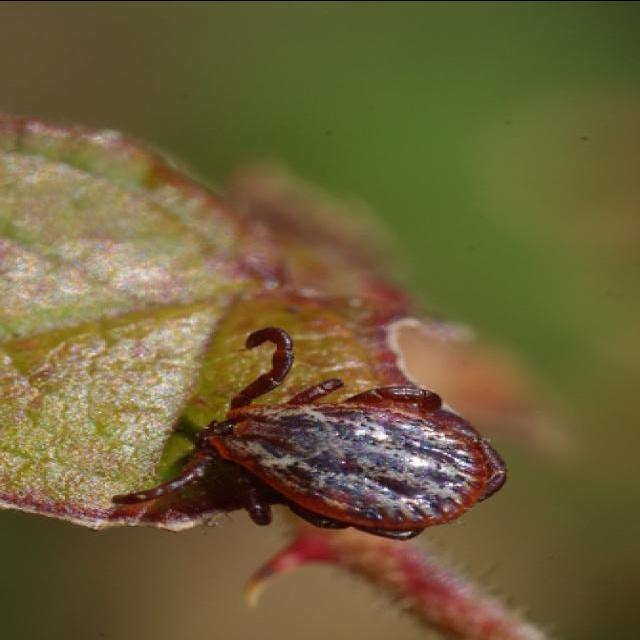Dermacentor Reticulatus-M: (111, 325, 506, 540)
